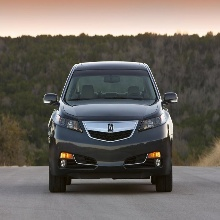no damage: (42, 61, 178, 195)
